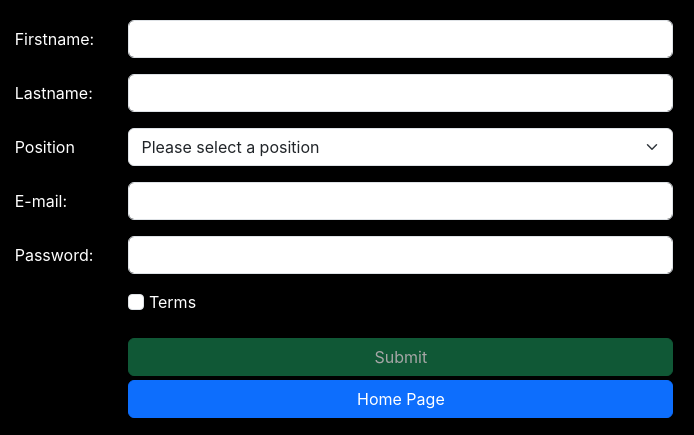
Scenario: Form Tests › checks if submit button is enabled after filling the form with valid data
Type "firstname" into the field with test id "input-first-name" at (401, 39), box [128,20,673,58]
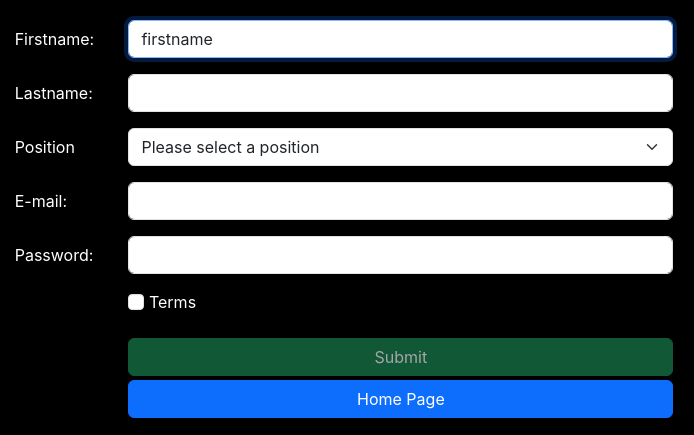
Type "lastname" into the field with test id "input-last-name" at (401, 93), box [128,74,673,112]
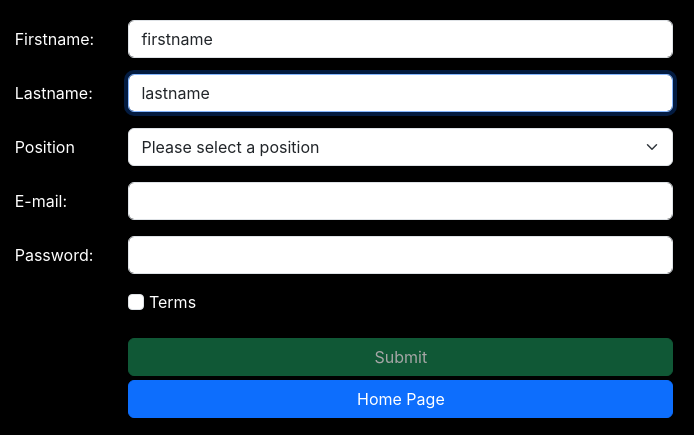
Select "1" in the dropdown with test id "input-position" at (401, 147), box [128,128,673,166]
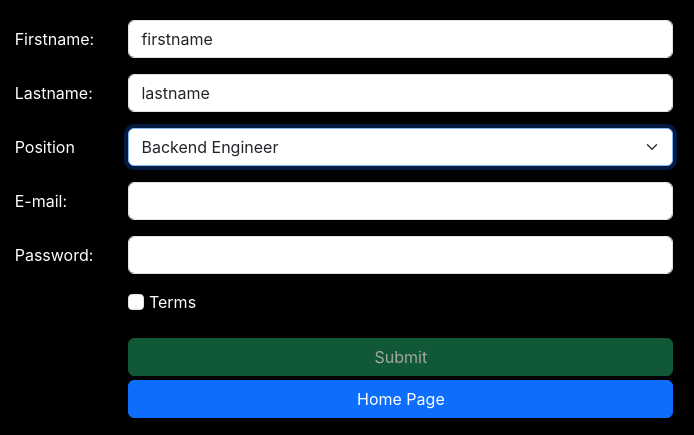
Type "some@email.com" into the field with test id "input-email" at (401, 201), box [128,182,673,220]
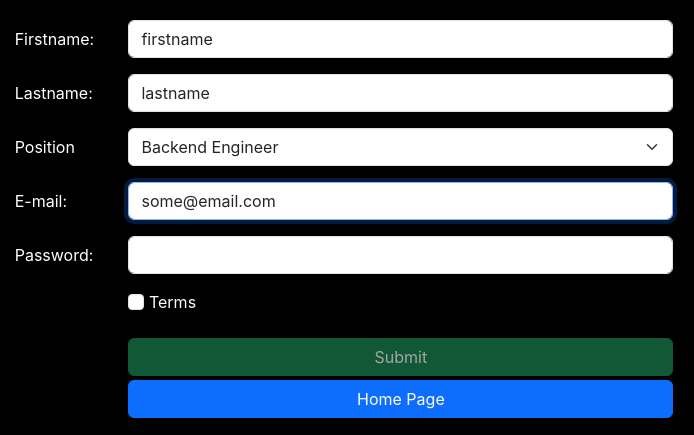
Type "123456" into the password field with test id "input-password" at (401, 255), box [128,236,673,274]
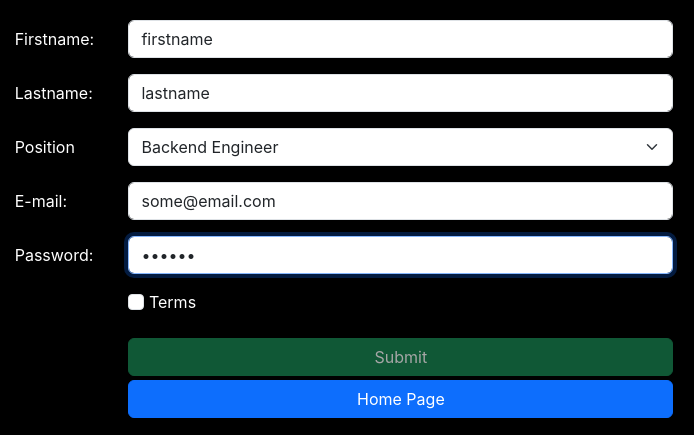
Check the checkbox with test id "input-terms" at (136, 302), box [128,294,144,310]
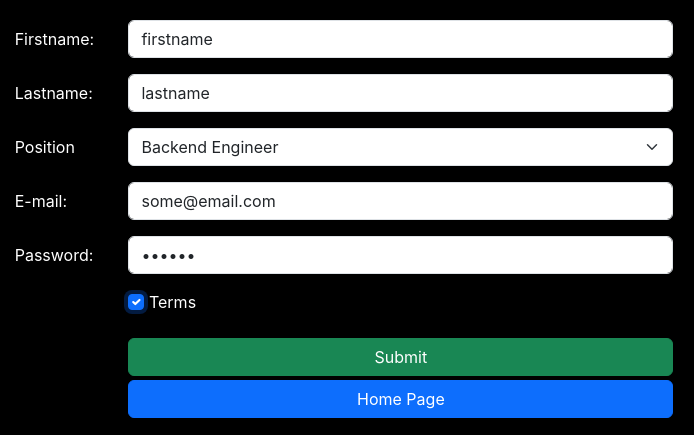
Now the button with test id "submit" is enabled, box [128,338,673,376]
